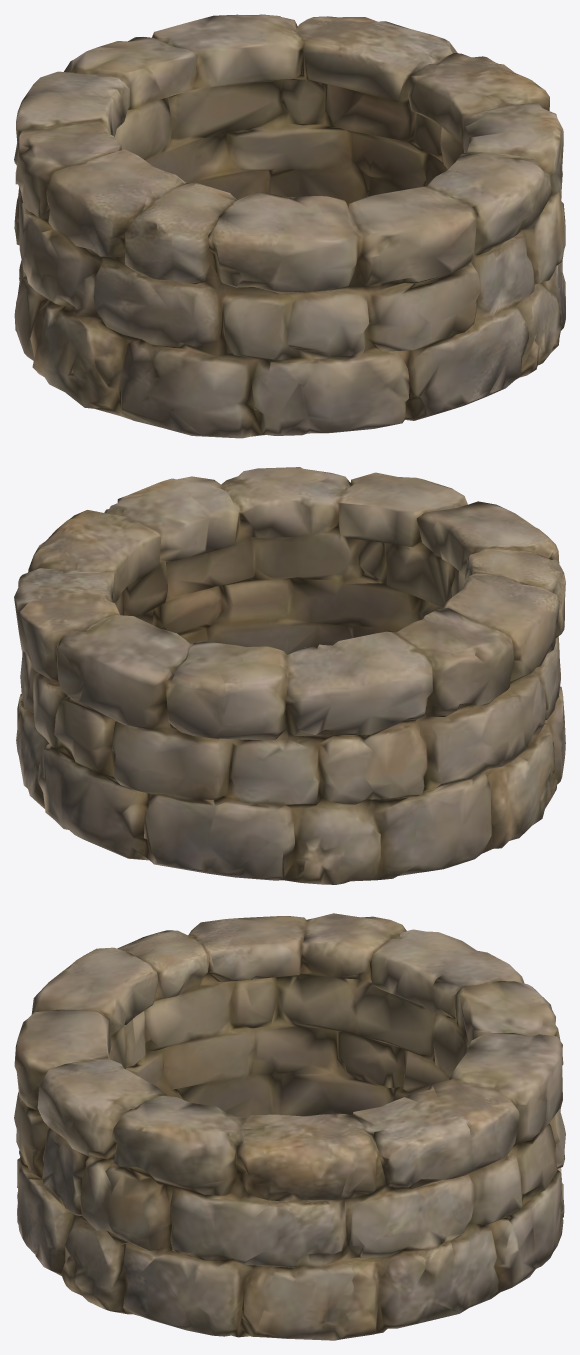
Rendered from stone-well-tripo.glb.
3 renders of one model, top to bottom at view 1: azimuth 30°, elevation 25°; view 2: azimuth 150°, elevation 25°; view 3: azimuth 270°, elevation 25°, orthographic.
Parts seen in each view (by area): view 1: tripo_node_1bcc186d-a020-4e68-9ba5-ea840d45af94; view 2: tripo_node_1bcc186d-a020-4e68-9ba5-ea840d45af94; view 3: tripo_node_1bcc186d-a020-4e68-9ba5-ea840d45af94.
Part boxes in pixels (x1,y1,x2,y2): tripo_node_1bcc186d-a020-4e68-9ba5-ea840d45af94: [14, 14, 565, 438]; tripo_node_1bcc186d-a020-4e68-9ba5-ea840d45af94: [14, 467, 565, 884]; tripo_node_1bcc186d-a020-4e68-9ba5-ea840d45af94: [14, 913, 565, 1340].
Size of the model in its own units: 0.9975 by 0.4541 by 0.9988.
Materials: 1 (1 with a texture image).
